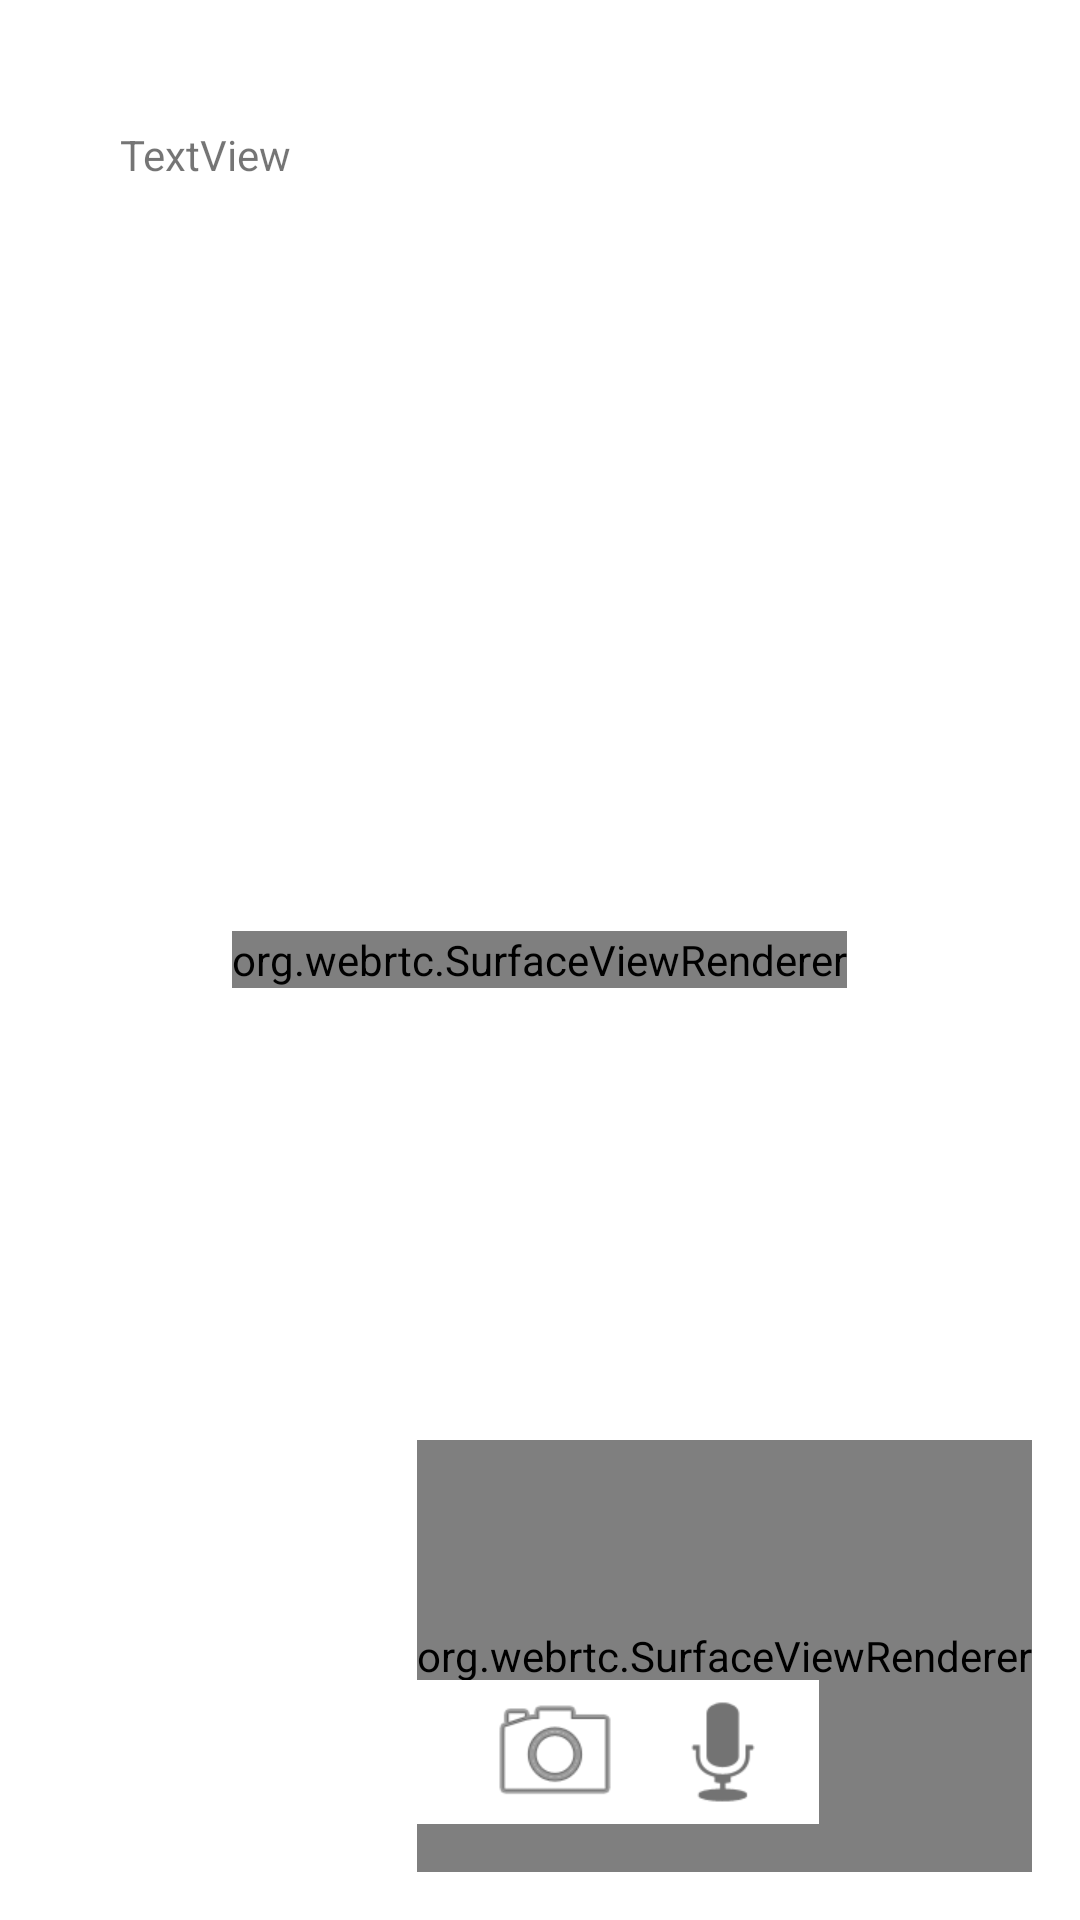

Screen size 1080x1920. Icon name, then its center in pixels as point (x, y):
Switch front/back camera: point (555, 1749)
Toggle microphone on/off: point (722, 1752)
